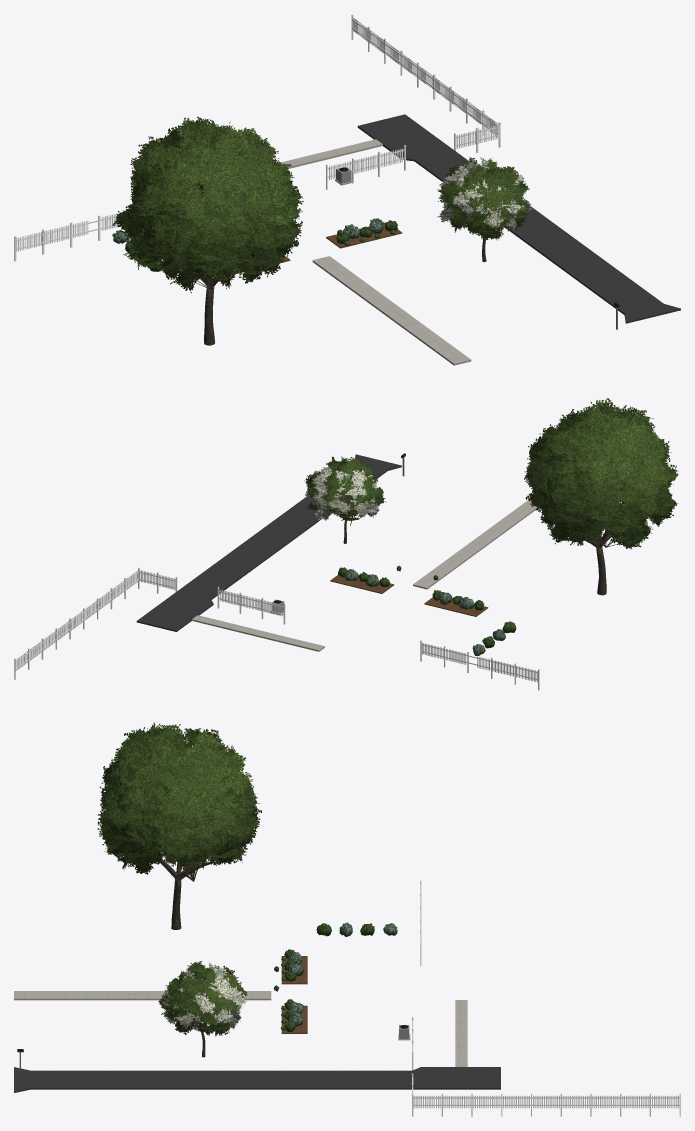
The model's file is rossi-house-lot.glb.
3 views of the same model, one above another, from view 1: azimuth 30°, elevation 25°; view 2: azimuth 150°, elevation 25°; view 3: azimuth 270°, elevation 25° (orthographic). The views are drawn at different scales.
Visible parts, largest first — view 1: Tree_Maple_1, Lot_Hardscape, Tree_Dogwood_1, Lot_Fence, Lot_Plants; view 2: Tree_Maple_1, Lot_Hardscape, Lot_Fence, Tree_Dogwood_1, Lot_Plants; view 3: Tree_Maple_1, Lot_Hardscape, Tree_Dogwood_1, Lot_Fence, Lot_Plants.
Boxes of the visible parts, x1,y1,x2,y2 form: Tree_Maple_1: (112, 116, 303, 345); Lot_Hardscape: (233, 114, 680, 365); Tree_Dogwood_1: (437, 157, 532, 261); Lot_Fence: (14, 14, 500, 261); Lot_Plants: (112, 218, 397, 272); Tree_Maple_1: (524, 398, 678, 595); Lot_Hardscape: (136, 454, 537, 651); Lot_Fence: (14, 567, 539, 690); Tree_Dogwood_1: (304, 456, 385, 543); Lot_Plants: (338, 565, 516, 655); Tree_Maple_1: (97, 722, 261, 929); Lot_Hardscape: (14, 956, 500, 1092); Tree_Dogwood_1: (158, 961, 247, 1057); Lot_Fence: (411, 880, 680, 1116); Lot_Plants: (274, 922, 397, 1031).
Size of the model in its own units: 38.42 by 16.34 by 48.36.
Materials: 14 (11 with a texture image).
